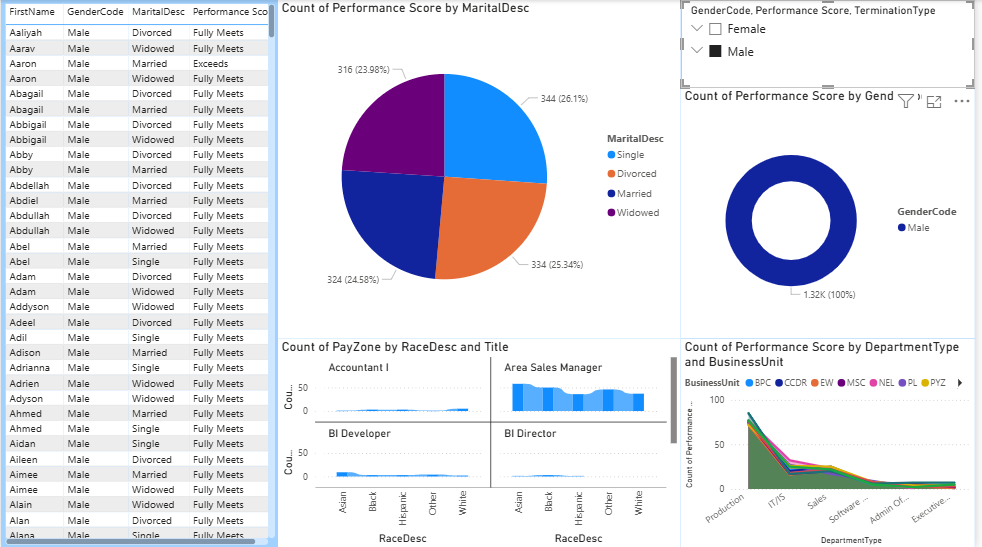

What the dashboard file says about the page in this screenshot:
{"tool":"powerbi","page":{"name":"Page 1","canvas":[1280,720],"ordinal":0},"visuals":[{"type":"tableEx","fields":{"Values":["employee_data.FirstName","employee_data.GenderCode","employee_data.MaritalDesc","employee_data.Performance Score"]},"box":[0,0,364.5,720.6],"z":0},{"type":"pieChart","fields":{"Category":["employee_data.MaritalDesc"],"Y":["CountNonNull(employee_data.Performance Score)"]},"box":[364.5,0,529.1,445.1],"z":1000},{"type":"ribbonChart","fields":{"Rows":["employee_data.Title"],"Y":["CountNonNull(employee_data.PayZone)"],"Category":["employee_data.RaceDesc"]},"box":[364.5,445.1,529.1,275.5],"z":2000},{"type":"slicer","fields":{"Values":["employee_data.GenderCode","employee_data.Performance Score","employee_data.TerminationType"]},"box":[893.6,0,386.4,115.9],"z":3000},{"type":"donutChart","fields":{"Category":["employee_data.GenderCode"],"Y":["CountNonNull(employee_data.Performance Score)"]},"box":[893.6,115.9,386.4,329.2],"z":4000},{"type":"areaChart","fields":{"Category":["employee_data.DepartmentType"],"Series":["employee_data.BusinessUnit"],"Y":["CountNonNull(employee_data.Performance Score)"]},"box":[894,445,386,275],"z":5000}]}

Visuals, with their boxes in screenshot pixels (x1, y1, x2, y2), scaled from the page's 1280x720 canvas onto the 982x547 screenshot:
tableEx - employee_data.FirstName x employee_data.GenderCode: crop(0, 0, 280, 546)
pieChart - employee_data.MaritalDesc x CountNonNull(employee_data.Performance Score): crop(280, 0, 686, 338)
ribbonChart - employee_data.Title x CountNonNull(employee_data.PayZone): crop(280, 338, 686, 546)
slicer - employee_data.GenderCode x employee_data.Performance Score: crop(686, 0, 981, 88)
donutChart - employee_data.GenderCode x CountNonNull(employee_data.Performance Score): crop(686, 88, 981, 338)
areaChart - employee_data.DepartmentType x employee_data.BusinessUnit: crop(686, 338, 981, 546)
